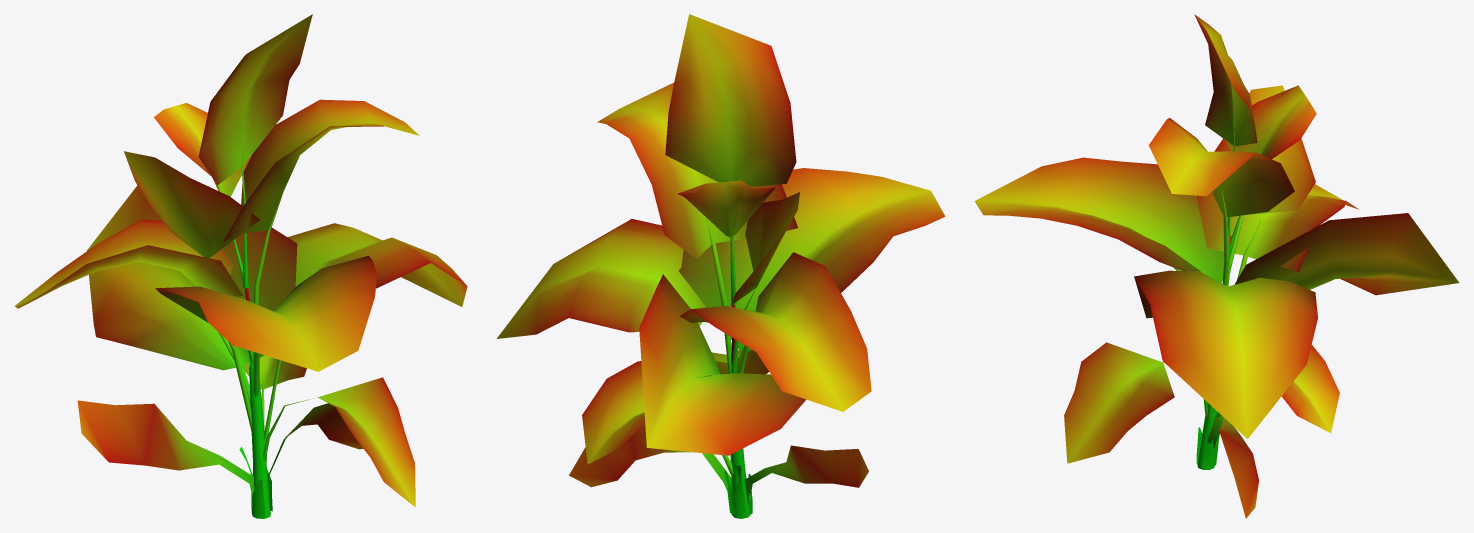
Rendered from Cat Palm_LOD1_Var1_tjejafeia.fbx.
The picture shows the model from 3 angles, left to right: view 1: azimuth 30°, elevation 25°; view 2: azimuth 150°, elevation 25°; view 3: azimuth 270°, elevation 25°; orthographic projection. The views are drawn at different scales.
Parts seen in each view (by area): view 1: _bc0b_Var1_LOD1; view 2: _bc0b_Var1_LOD1; view 3: _bc0b_Var1_LOD1.
Boxes of the visible parts, x1,y1,x2,y2 form: _bc0b_Var1_LOD1: (14,14,467,518); _bc0b_Var1_LOD1: (497,14,945,518); _bc0b_Var1_LOD1: (974,14,1459,518).
Bounding box in the file's own units: 139 × 159 × 152.
